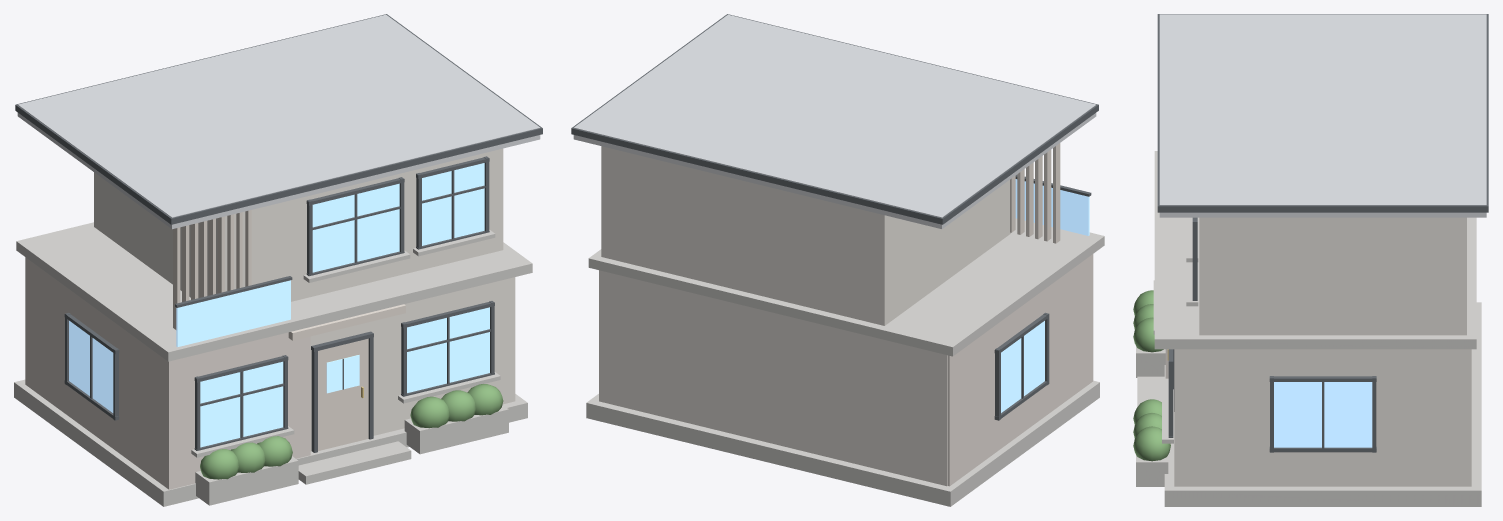
File: Building_North_Residence.fbx
3 renders of one model, left to right at view 1: azimuth 30°, elevation 25°; view 2: azimuth 150°, elevation 25°; view 3: azimuth 270°, elevation 25°, orthographic. The views are drawn at different scales.
Parts seen in each view (by area): view 1: Building_North_Residence; view 2: Building_North_Residence; view 3: Building_North_Residence.
Part boxes in pixels (x1=…): Building_North_Residence: x1=14, y1=14, x2=542, y2=506; Building_North_Residence: x1=571, y1=14, x2=1104, y2=506; Building_North_Residence: x1=1133, y1=14, x2=1488, y2=506.
Size of the model in its own units: 929 by 684 by 717.
